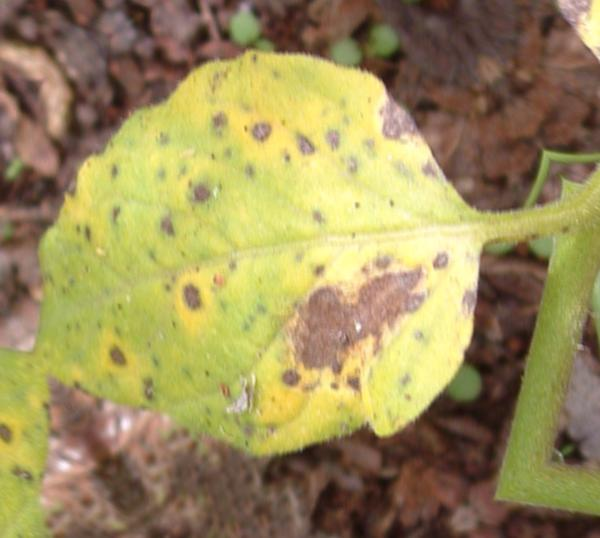Tomato Early blight leaf: (0, 0, 567, 538)
